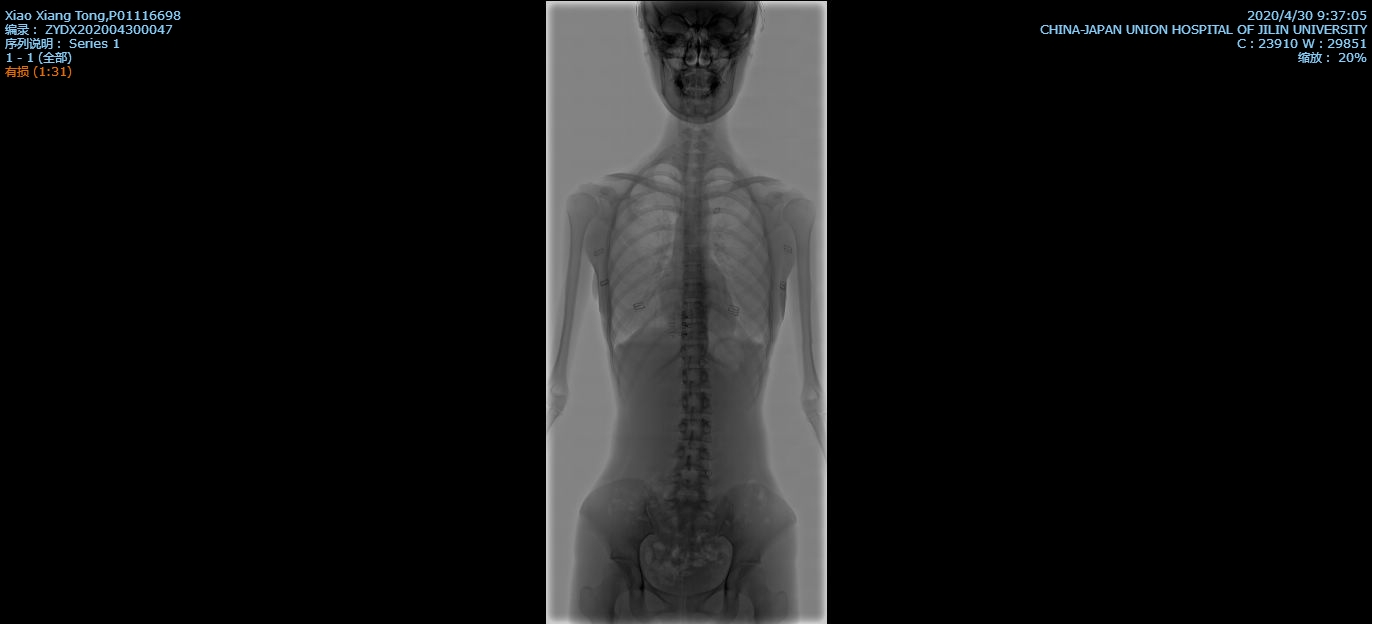Bone: (675, 475, 706, 500), (674, 447, 707, 469), (679, 391, 710, 413), (676, 417, 707, 438), (680, 301, 706, 319), (681, 345, 705, 364), (681, 324, 707, 341), (682, 369, 708, 385), (684, 247, 704, 262), (684, 283, 704, 297), (685, 266, 703, 280), (684, 232, 702, 244), (685, 215, 703, 227)
